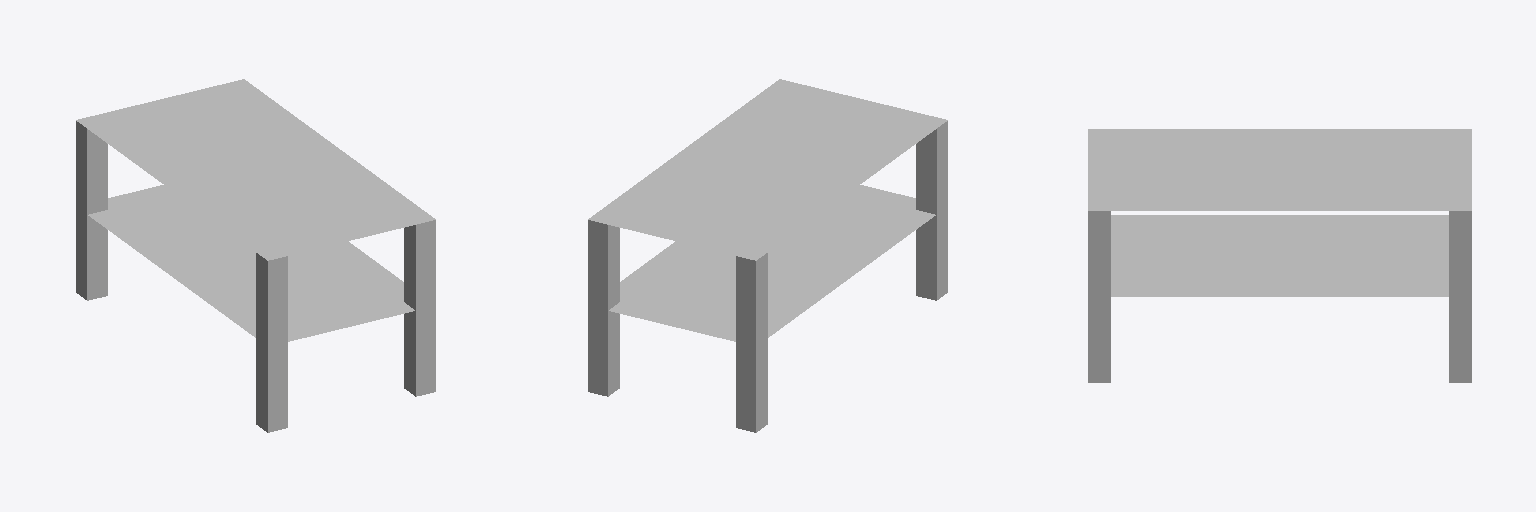
File: rack_01a.obj
3 renders of one model, left to right at view 1: azimuth 30°, elevation 25°; view 2: azimuth 150°, elevation 25°; view 3: azimuth 270°, elevation 25°, orthographic.
Parts seen in each view (by area): view 1: Cube; view 2: Cube; view 3: Cube.
Boxes of the visible parts, <box> form: Cube: <box>76,79,435,432</box>; Cube: <box>588,79,947,432</box>; Cube: <box>1088,129,1471,382</box>.
Size of the model in its own units: 2.05 by 2 by 4.05.